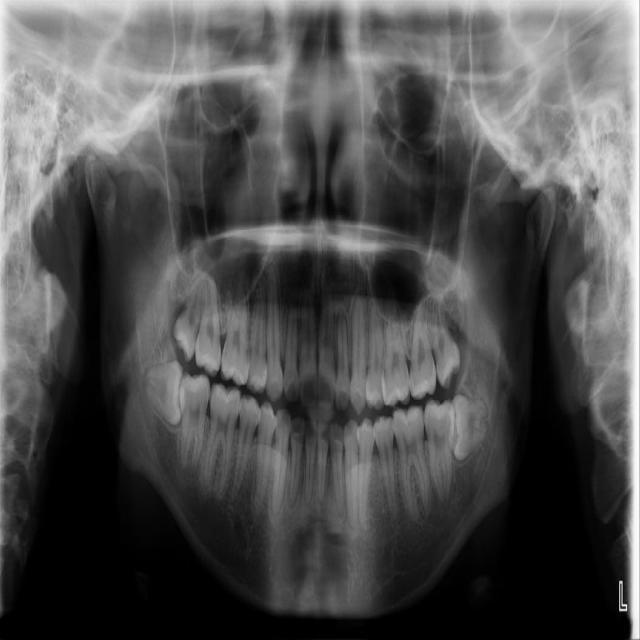3M ESPE Implant: (169, 246, 212, 363)
73: (602, 580, 606, 586)
BioHorizons Implant: (409, 293, 437, 400)
BioLife Implant: (425, 282, 465, 391)
Biomet 3i Implant: (447, 394, 490, 459)
Blue Sky Bio Implant: (424, 399, 454, 505)
Caries: (192, 259, 223, 379)
Implant: (171, 370, 212, 475)
Keystone Dental Implant: (142, 360, 189, 426)
